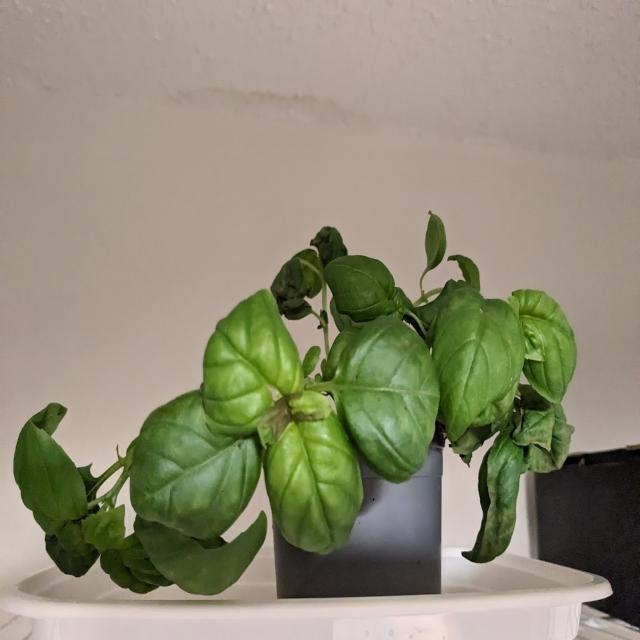dark: (483, 438, 517, 559), (513, 424, 578, 478), (272, 254, 325, 312), (303, 212, 350, 261), (265, 396, 316, 435)
healthy: (340, 318, 441, 476), (208, 287, 307, 427), (432, 300, 524, 432), (270, 451, 362, 551), (510, 288, 578, 402), (328, 255, 396, 319)
wilt: (19, 413, 247, 594)
